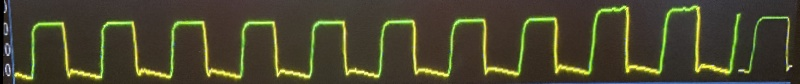normal_pressure: (14, 11, 744, 84)
